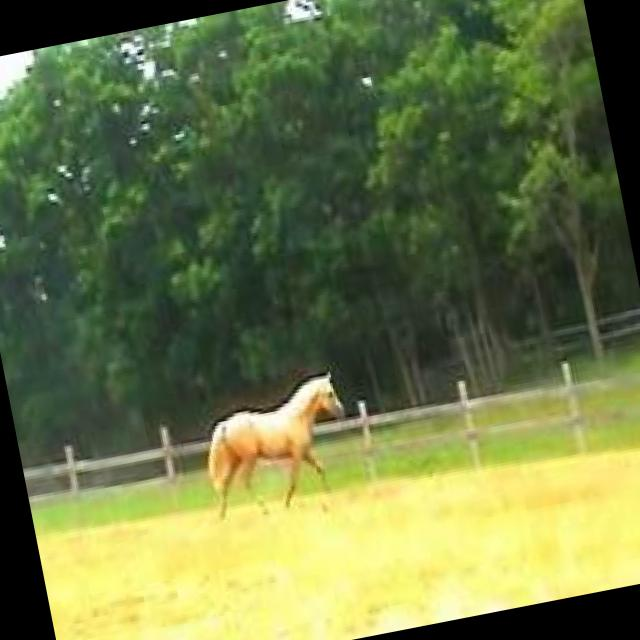animal: (194, 367, 362, 524)
